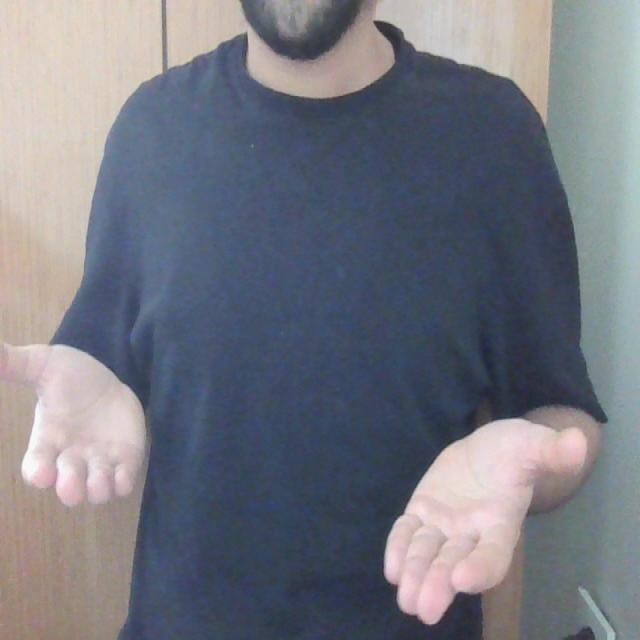Evet: (0, 336, 600, 622)
